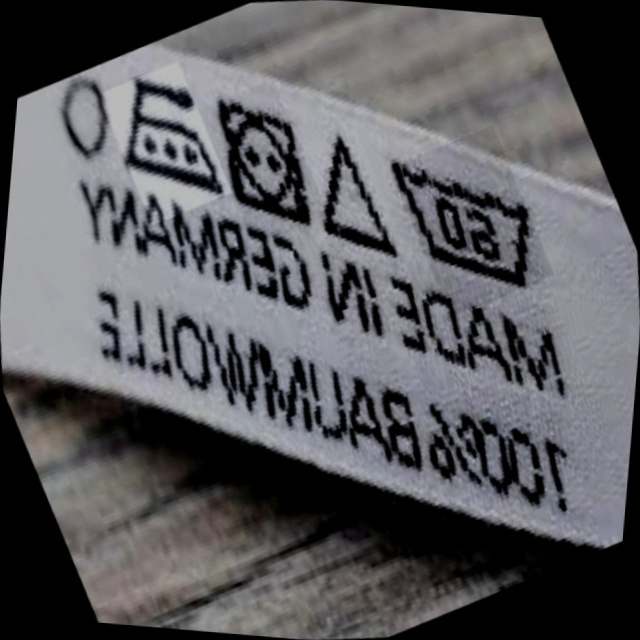60C: (377, 136, 559, 300)
bleach: (304, 123, 403, 266)
iron_high: (106, 60, 231, 208)
tumble_dry_medium: (206, 84, 321, 232)
